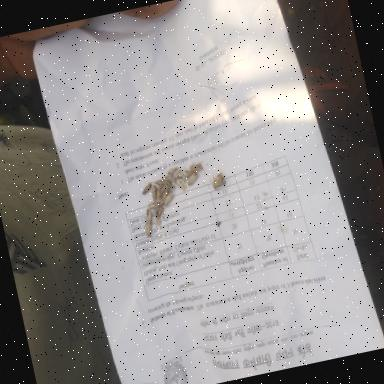pbw: (208, 172, 227, 194), (136, 180, 154, 198), (156, 179, 172, 196), (188, 159, 206, 173), (142, 218, 154, 238), (184, 171, 200, 186), (154, 183, 166, 201), (160, 192, 174, 206), (154, 204, 166, 220), (149, 184, 159, 203), (146, 198, 162, 209), (159, 174, 175, 185), (176, 168, 190, 180), (176, 176, 186, 192), (164, 166, 179, 176), (145, 211, 154, 225)
